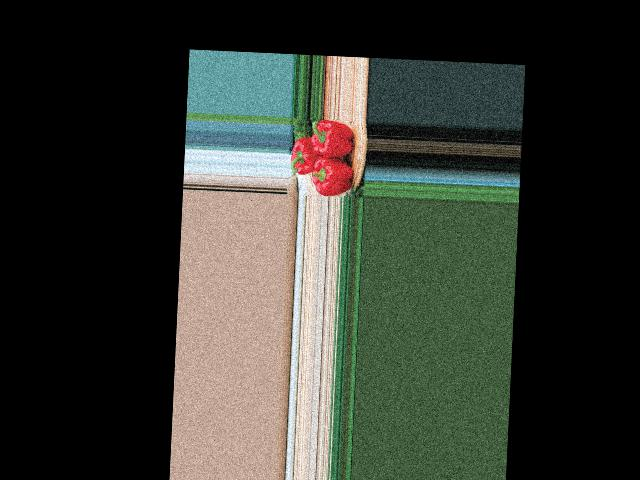bell_pepper: (309, 119, 359, 163)
